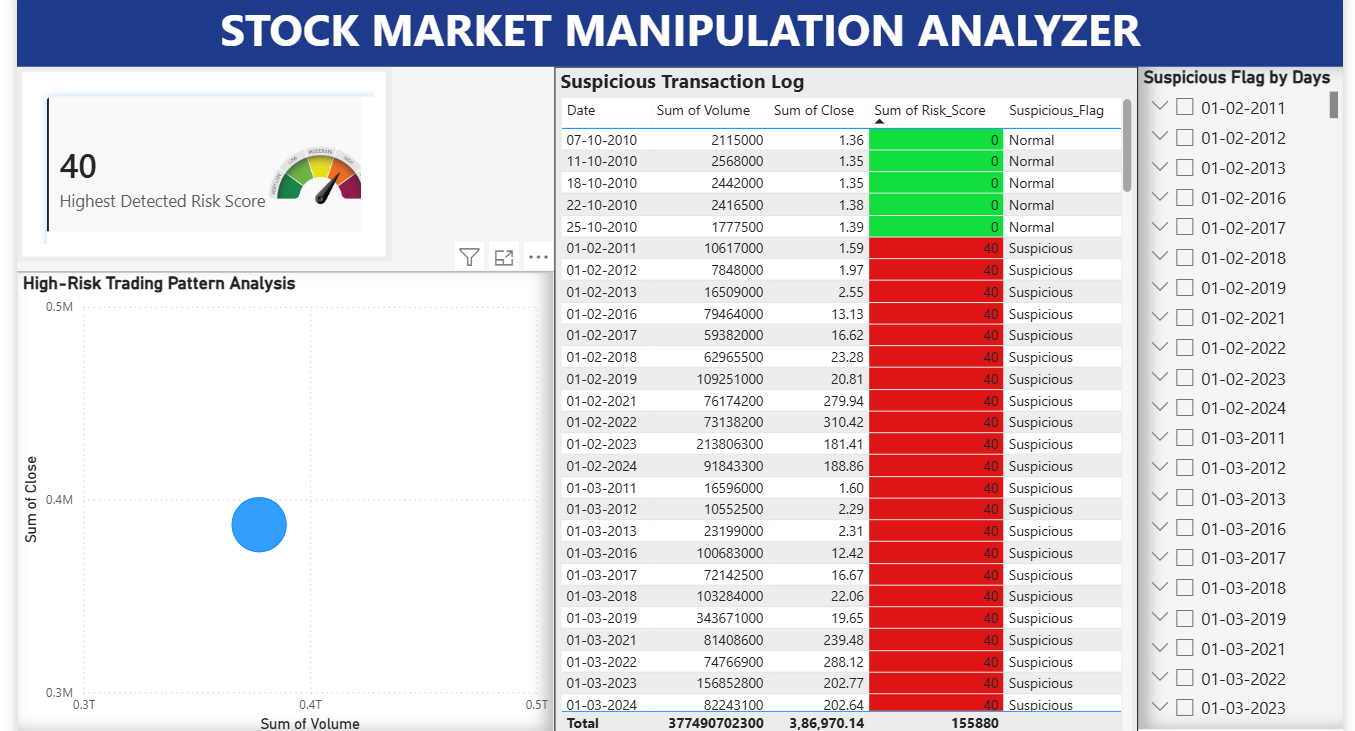

What the dashboard file says about the page in this screenshot:
{"tool":"powerbi","page":{"name":"Risk Investigation","canvas":[1280,720],"ordinal":2},"visuals":[{"type":"cardVisual","fields":{"Data":["Max(stock_market_analysis tesla_stock.Risk_Score)"]},"box":[0,70.9,362,188.3],"z":0},{"type":"scatterChart","title":"High-Risk Trading Pattern Analysis","fields":{"X":["Sum(stock_market_analysis tesla_stock.Volume)"],"Y":["Sum(stock_market_analysis tesla_stock.Close)"],"Size":["Sum(stock_market_analysis tesla_stock.Risk_Score)"]},"box":[0,269,518.8,451.2],"z":1000},{"type":"tableEx","title":"Suspicious Transaction Log","fields":{"Values":["stock_market_analysis tesla_stock.Date","Sum(stock_market_analysis tesla_stock.Volume)","Sum(stock_market_analysis tesla_stock.Close)","Sum(stock_market_analysis tesla_stock.Risk_Score)","stock_market_analysis tesla_stock.Suspicious_Flag"]},"box":[518.8,71.2,563.4,649.1],"z":2000},{"type":"slicer","title":"Suspicious Flag by Days","fields":{"Values":["stock_market_analysis tesla_stock.Date","stock_market_analysis tesla_stock.Suspicious_Flag"]},"box":[1082.2,70.9,198.1,639.5],"z":3000},{"type":"textbox","box":[0,0,1280.3,70.9],"z":4000}]}

Visuals, with their boxes on the page's 1280x720 design canvas (x1, y1, x2, y2). These are canvas units, not pixel positions in the 1355x731 screenshot, which may show the page scaled, cropped or inside an application window:
cardVisual - Max(stock_market_analysis tesla_stock.Risk_Score): Rect(0, 71, 362, 259)
"High-Risk Trading Pattern Analysis" scatterChart: Rect(0, 269, 519, 720)
"Suspicious Transaction Log" tableEx: Rect(519, 71, 1082, 720)
"Suspicious Flag by Days" slicer: Rect(1082, 71, 1280, 710)
textbox: Rect(0, 0, 1280, 71)
